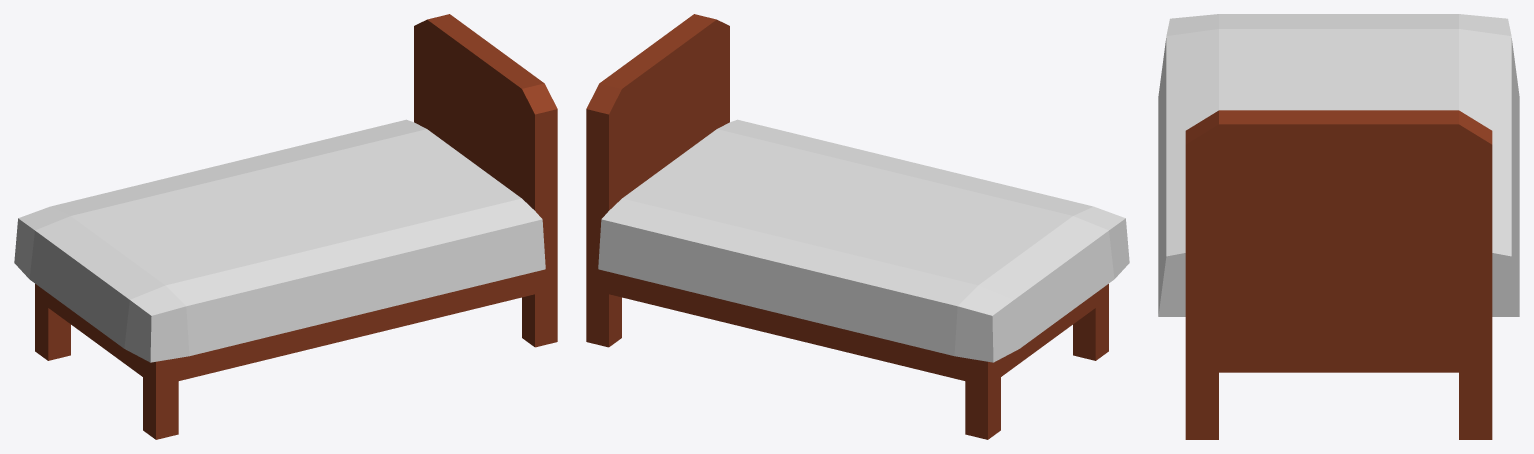
The model's file is Bed.glb.
3 renders of one model, left to right at view 1: azimuth 30°, elevation 25°; view 2: azimuth 150°, elevation 25°; view 3: azimuth 270°, elevation 25°, orthographic. The views are drawn at different scales.
Visible parts, largest first — view 1: Bed; view 2: Bed; view 3: Bed.
Part boxes in pixels (<box>): Bed: <box>14,14,557,439</box>; Bed: <box>586,14,1129,439</box>; Bed: <box>1158,14,1519,439</box>.
Bounding box in the file's own units: 1.85 × 1.05 × 1.09.
